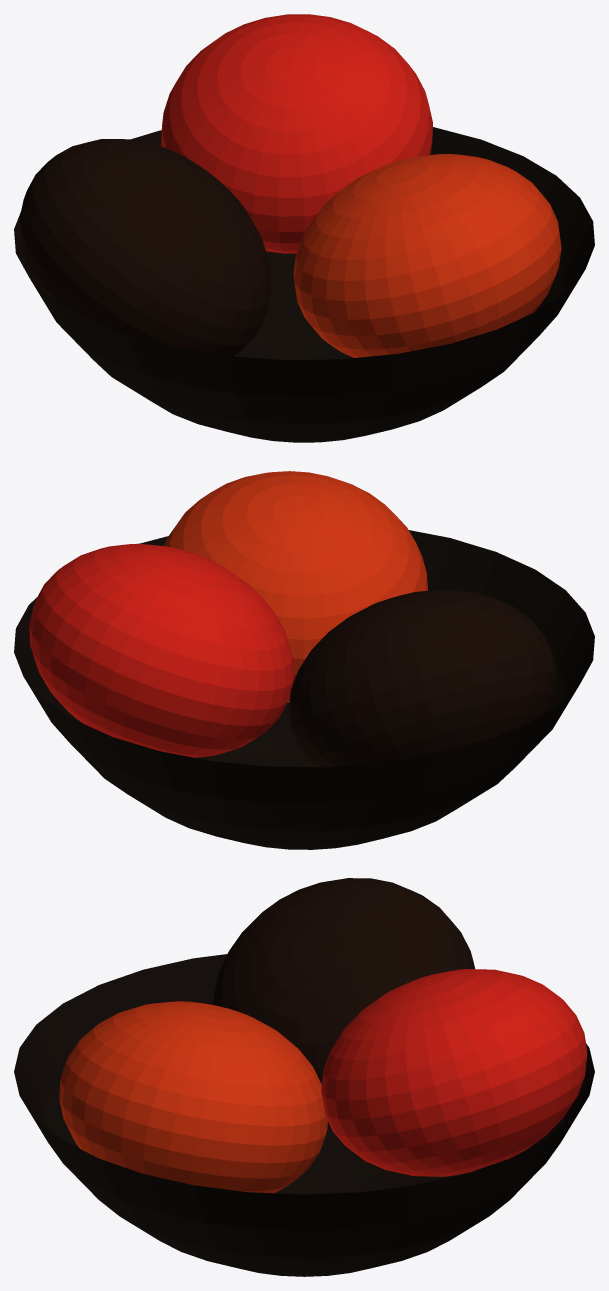
Rendered from bowl-and-pumpkins.obj.
The picture shows the model from 3 angles, top to bottom: view 1: azimuth 30°, elevation 25°; view 2: azimuth 150°, elevation 25°; view 3: azimuth 270°, elevation 25°; orthographic projection.
Parts seen in each view (by area): view 1: Bowl_Sphere, Pumpkins_Sphere.001, Pumpkins.001_Sphere.002, Pumpkins.002_Sphere.003; view 2: Bowl_Sphere, Pumpkins.001_Sphere.002, Pumpkins.002_Sphere.003, Pumpkins_Sphere.001; view 3: Bowl_Sphere, Pumpkins.001_Sphere.002, Pumpkins_Sphere.001, Pumpkins.002_Sphere.003.
Boxes of the visible parts, x1=… form: Bowl_Sphere: x1=14, y1=127, x2=594, y2=442; Pumpkins_Sphere.001: x1=293, y1=154, x2=561, y2=357; Pumpkins.001_Sphere.002: x1=161, y1=14, x2=432, y2=253; Pumpkins.002_Sphere.003: x1=19, y1=139, x2=271, y2=356; Bowl_Sphere: x1=14, y1=530, x2=594, y2=849; Pumpkins.001_Sphere.002: x1=29, y1=543, x2=294, y2=757; Pumpkins.002_Sphere.003: x1=288, y1=589, x2=556, y2=767; Pumpkins_Sphere.001: x1=164, y1=471, x2=427, y2=702; Bowl_Sphere: x1=14, y1=954, x2=594, y2=1276; Pumpkins.001_Sphere.002: x1=321, y1=969, x2=587, y2=1176; Pumpkins_Sphere.001: x1=59, y1=1001, x2=327, y2=1193; Pumpkins.002_Sphere.003: x1=212, y1=878, x2=474, y2=1128.
Bounding box in the file's own units: 1.85 × 1.06 × 1.85.
